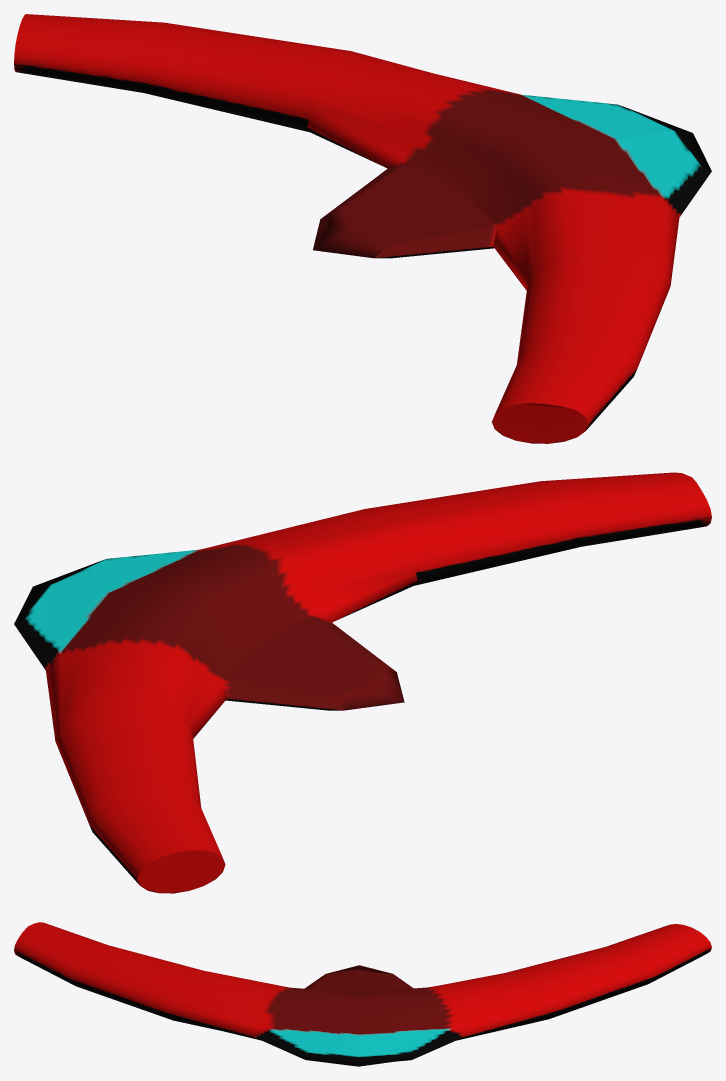
Rendered from mini ship texture 1.FBX.
The picture shows the model from 3 angles, top to bottom: view 1: azimuth 30°, elevation 25°; view 2: azimuth 150°, elevation 25°; view 3: azimuth 270°, elevation 25°; orthographic projection. The views are drawn at different scales.
Visible parts, largest first — view 1: Cylinder001; view 2: Cylinder001; view 3: Cylinder001.
Boxes of the visible parts, left/top/right/bottom form: Cylinder001: left=14, top=14, right=711, bottom=443; Cylinder001: left=14, top=472, right=711, bottom=893; Cylinder001: left=14, top=922, right=711, bottom=1066.
Size of the model in its own units: 42.37 by 5.94 by 90.51.
1 material, 1 textured.
